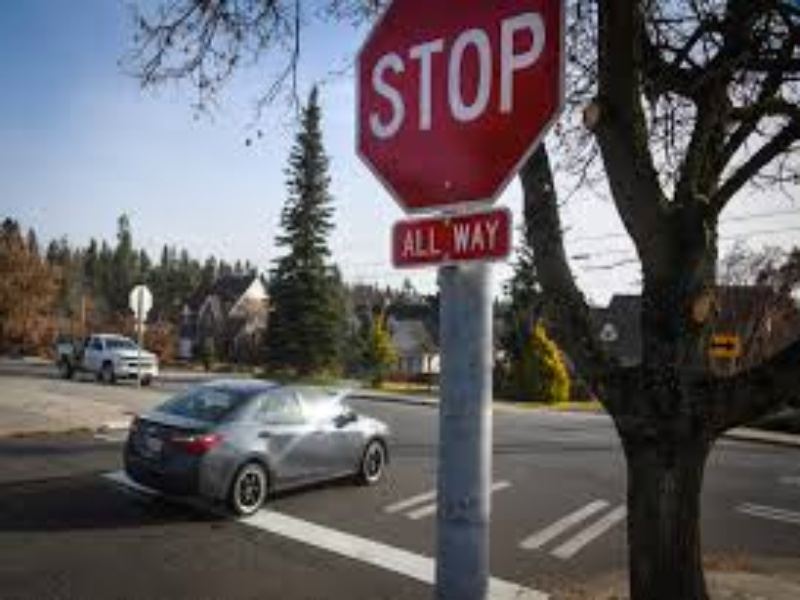Stop_Sign: (352, 1, 561, 214)
